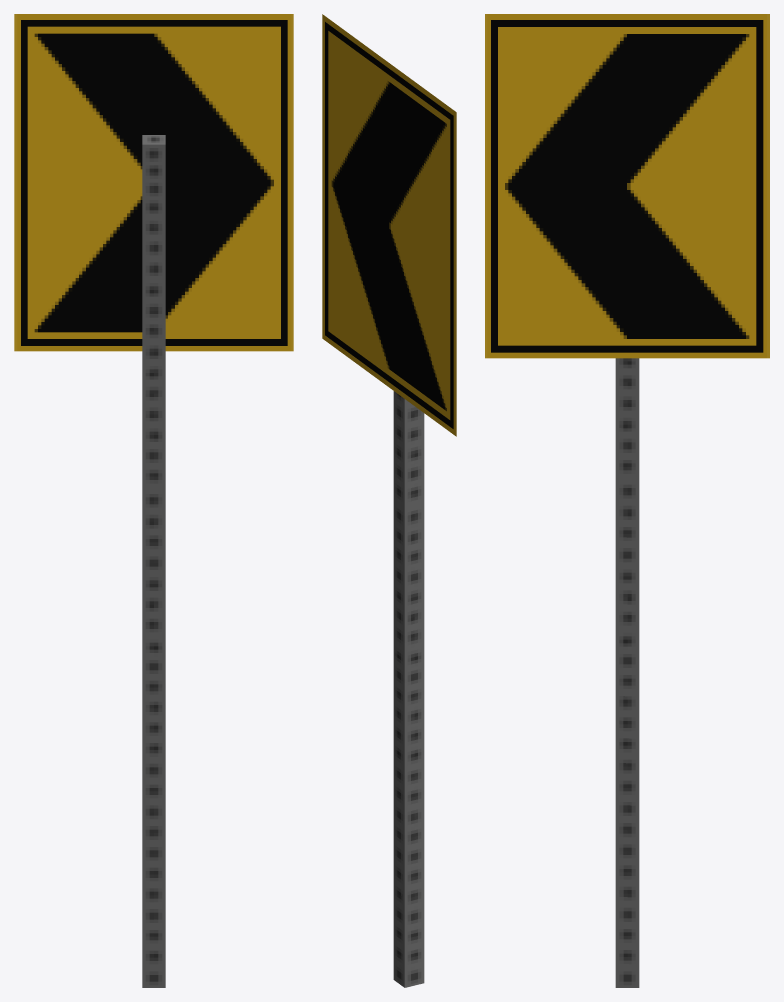
File: sign5.glb
3 views of the same model, side by side, from view 1: azimuth 90°, elevation 25°; view 2: azimuth 210°, elevation 25°; view 3: azimuth 270°, elevation 25° (orthographic). The views are drawn at different scales.
Parts seen in each view (by area): view 1: Plane.001, Cube.001; view 2: Plane.001, Cube.001; view 3: Plane.001, Cube.001.
Boxes of the visible parts, bbox=[...] form: Plane.001: bbox=[14, 14, 293, 351]; Cube.001: bbox=[142, 135, 165, 987]; Plane.001: bbox=[322, 14, 456, 436]; Cube.001: bbox=[393, 391, 424, 987]; Plane.001: bbox=[485, 14, 769, 358]; Cube.001: bbox=[615, 358, 639, 987].
Size of the model in its own units: 0.075 by 2.28 by 0.6.
Materials: 1 (1 with a texture image).
